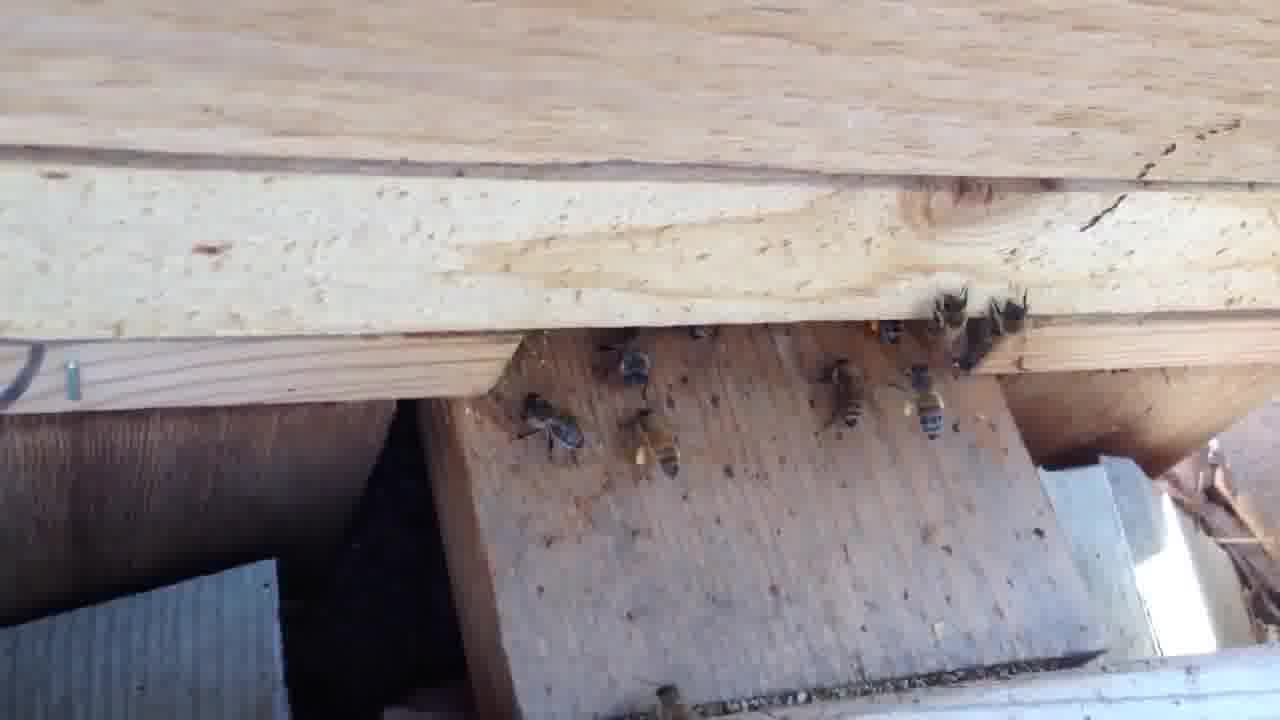pollen: (624, 407, 688, 480), (895, 362, 952, 437)
